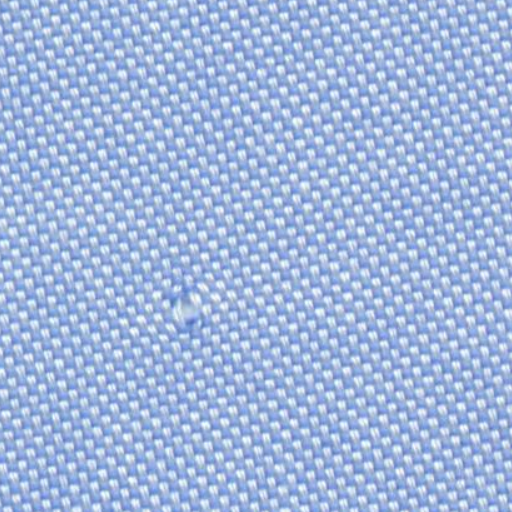PoDong: (156, 264, 224, 351)
